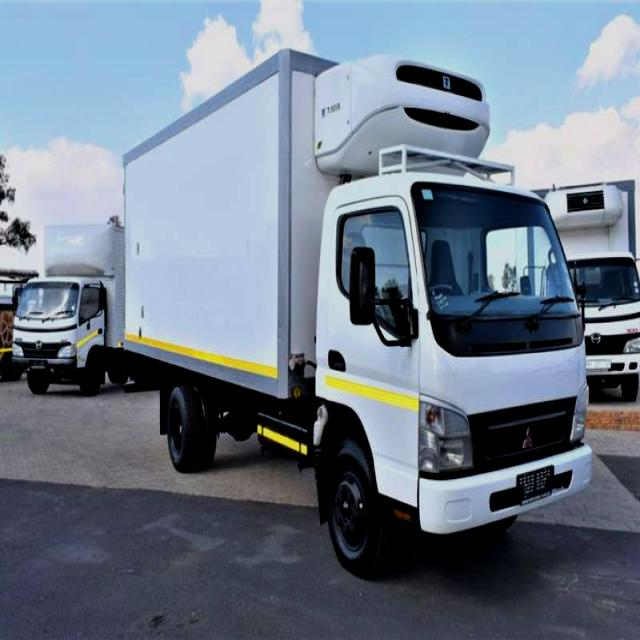truck: (121, 42, 592, 582), (15, 211, 129, 397)
